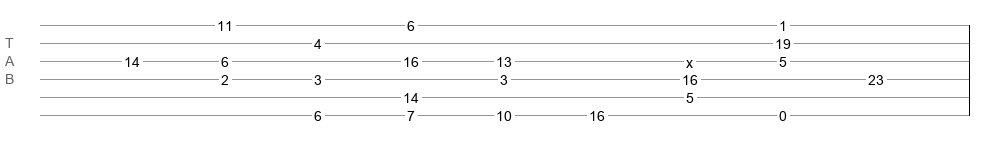0: (779, 108, 787, 118)
1: (779, 18, 787, 28)
10: (496, 108, 512, 118)
11: (217, 18, 233, 28)
13: (496, 54, 512, 64)
14: (124, 54, 140, 64), (403, 90, 419, 100)
16: (403, 54, 419, 64), (589, 108, 605, 118), (682, 72, 698, 82)
19: (775, 36, 791, 46)
2: (221, 72, 229, 82)
23: (868, 72, 884, 82)
3: (314, 72, 322, 82), (500, 72, 508, 82)
4: (314, 36, 322, 46)
5: (686, 90, 694, 100), (779, 54, 787, 64)
6: (221, 54, 229, 64), (314, 108, 322, 118), (407, 18, 415, 28)
7: (407, 108, 415, 118)
x: (686, 55, 693, 63)
